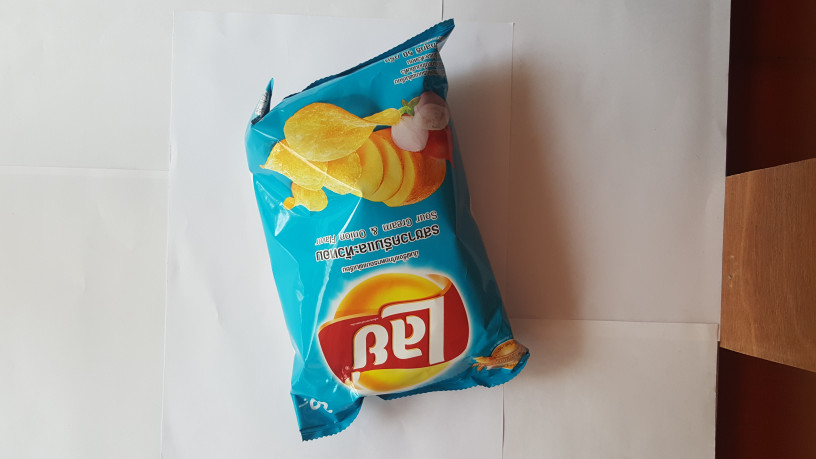lays-onion: (243, 17, 539, 445)
